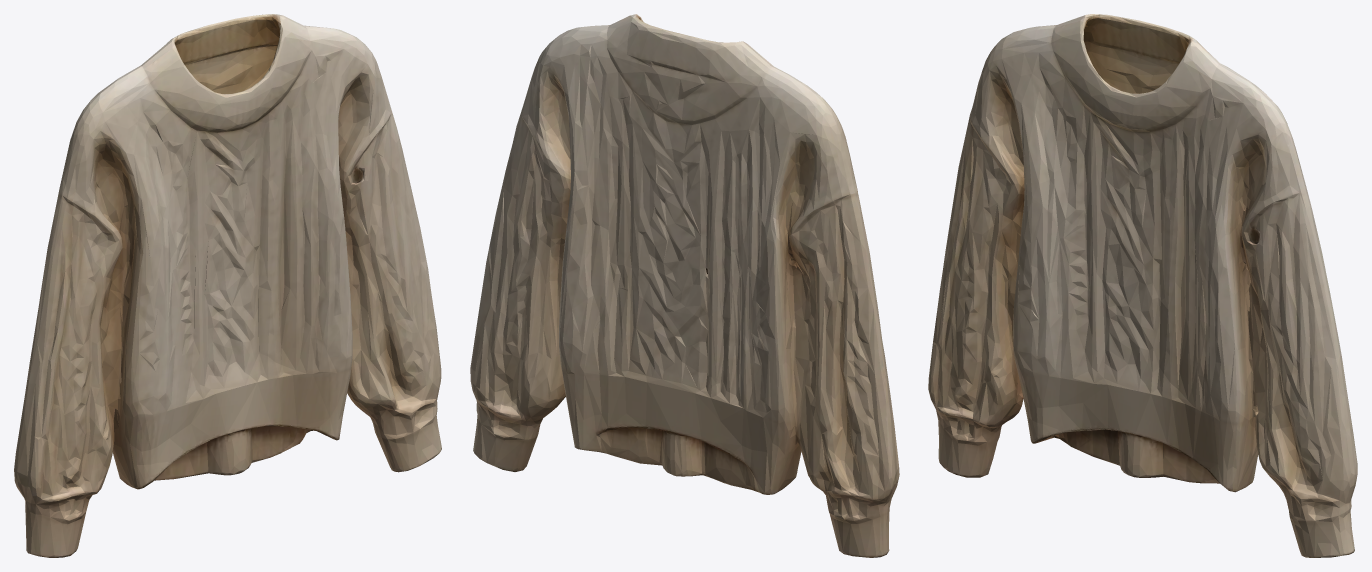
The picture shows the model from 3 angles, left to right: view 1: azimuth 30°, elevation 25°; view 2: azimuth 150°, elevation 25°; view 3: azimuth 330°, elevation 25°; orthographic projection.
Visible parts, largest first — view 1: geometry_0; view 2: geometry_0; view 3: geometry_0.
Part boxes in pixels (box(x1,y1,x2,y2)): geometry_0: box(14, 14, 441, 557); geometry_0: box(470, 14, 899, 557); geometry_0: box(928, 14, 1357, 557).
Size of the model in its own units: 0.9167 by 1 by 0.138.
1 material, 1 textured.
